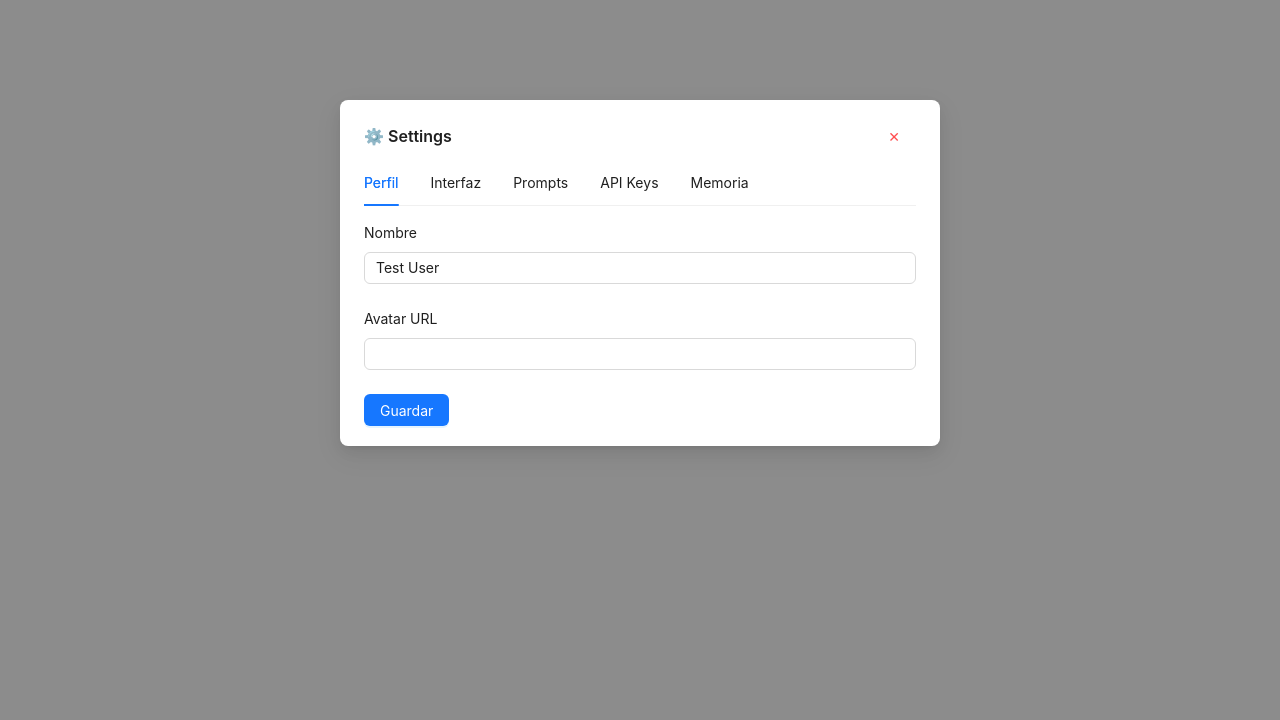
Test: SettingsDialog › renders Prompts tab with System, Archivist and Collapse sub-tabs
Click the tab "Prompts" at (541, 183), box [513,172,568,194]
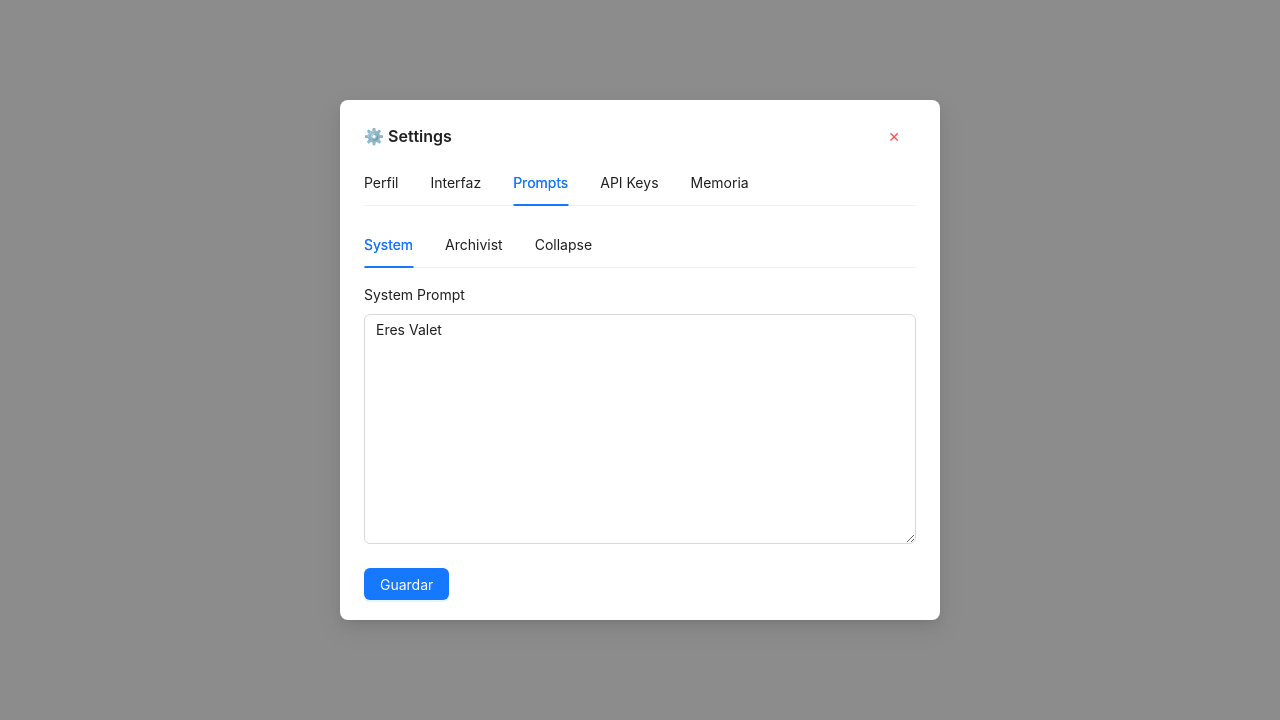
Expected: the tab "System" is shown, [364,234,413,256]
Expected: the tab "Archivist" is shown, [445,234,503,256]
Expected: the tab "Collapse" is shown, [535,234,592,256]
